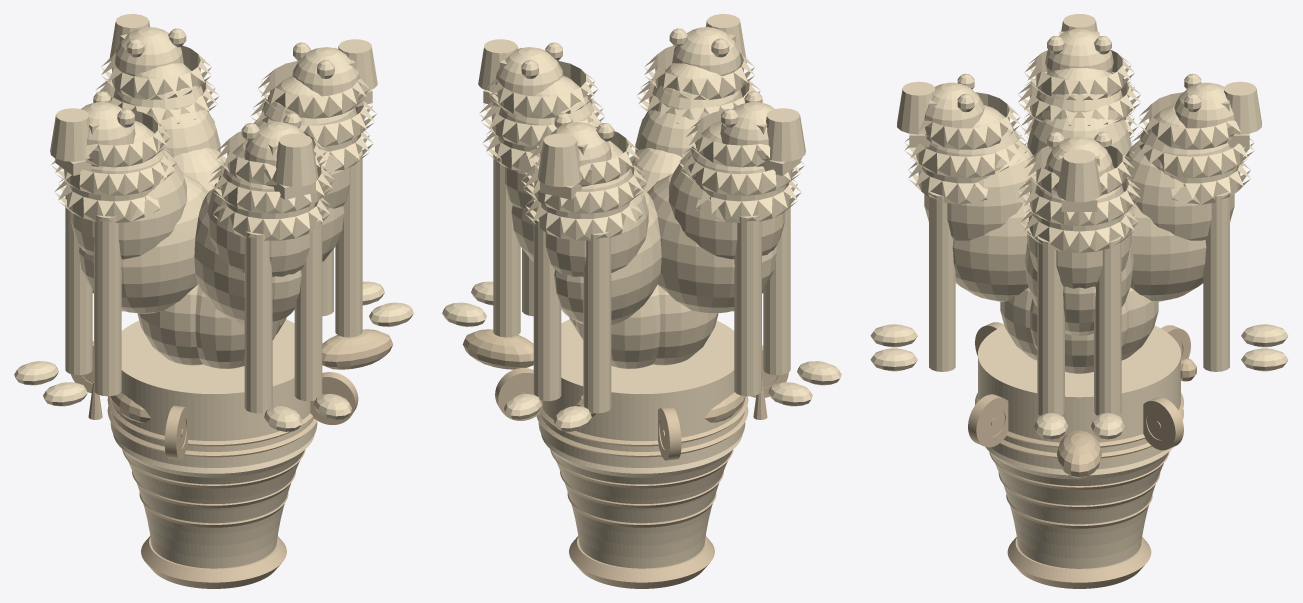
The model's file is ashoka_capital.glb.
3 views of the same model, side by side, from view 1: azimuth 30°, elevation 25°; view 2: azimuth 150°, elevation 25°; view 3: azimuth 270°, elevation 25° (orthographic).
Parts seen in each view (by area): view 1: ashoka_capital; view 2: ashoka_capital; view 3: ashoka_capital.
Boxes of the visible parts, x1,y1,x2,y2 form: ashoka_capital: (14, 14, 413, 588); ashoka_capital: (442, 14, 841, 588); ashoka_capital: (870, 14, 1288, 588).
Bounding box in the file's own units: 4.76 × 6 × 4.76.
